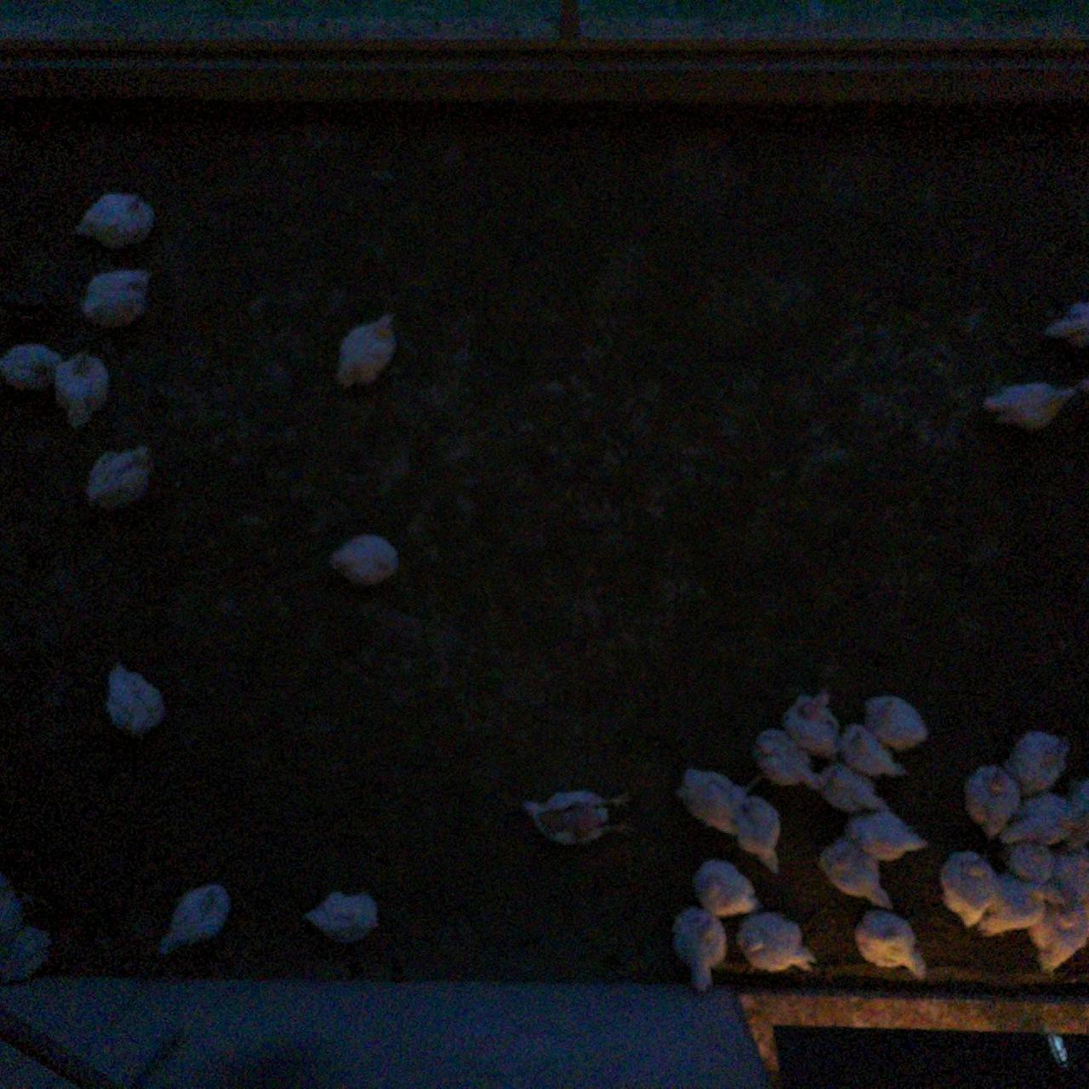chicken: (516, 785, 638, 854), (149, 876, 242, 962), (812, 827, 897, 914), (976, 865, 1070, 939), (331, 309, 410, 396), (976, 372, 1081, 437), (848, 903, 933, 983), (731, 906, 821, 980), (744, 724, 830, 801), (675, 763, 761, 839), (49, 342, 117, 437), (98, 657, 170, 743), (76, 263, 160, 333), (69, 187, 158, 253), (82, 440, 158, 516), (299, 883, 385, 949), (670, 904, 731, 996), (935, 847, 999, 934), (1002, 725, 1072, 802), (836, 719, 914, 787), (778, 686, 849, 760), (960, 759, 1023, 841), (322, 529, 405, 591), (685, 854, 765, 918), (858, 691, 934, 758), (847, 807, 933, 865), (816, 756, 889, 823), (998, 789, 1079, 848), (1029, 901, 1089, 979), (0, 339, 66, 402), (0, 921, 60, 988), (1005, 836, 1060, 887), (1041, 295, 1089, 350), (0, 875, 46, 932), (1058, 841, 1089, 900)
